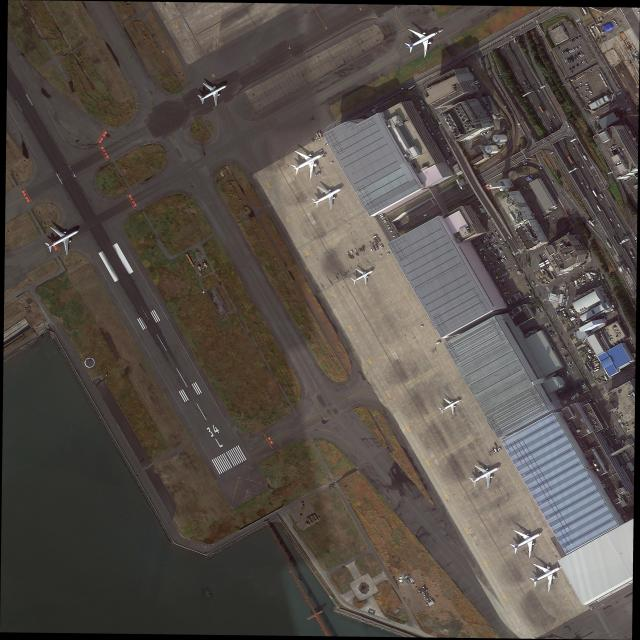large-vehicle: (612, 237, 620, 246), (588, 219, 596, 227), (523, 81, 530, 90), (538, 104, 545, 113), (567, 154, 574, 163), (629, 250, 636, 259), (605, 240, 612, 248), (592, 190, 599, 198), (597, 194, 603, 201), (596, 204, 602, 211), (565, 120, 570, 128), (550, 126, 555, 133), (513, 36, 517, 44), (583, 155, 588, 161), (627, 267, 632, 273), (599, 193, 604, 199), (427, 127, 432, 132), (608, 208, 613, 213), (559, 307, 565, 311), (493, 443, 497, 448), (492, 449, 496, 454), (350, 255, 354, 260), (562, 401, 566, 406), (494, 448, 498, 453), (509, 299, 513, 304), (507, 300, 511, 305), (355, 253, 359, 257), (563, 400, 567, 404), (621, 439, 625, 443), (576, 393, 580, 397), (574, 394, 578, 398), (376, 241, 381, 244), (375, 239, 380, 242), (373, 237, 378, 240), (347, 252, 350, 257), (349, 256, 352, 260), (619, 416, 623, 419), (572, 396, 575, 400), (618, 413, 621, 416)
plane: (392, 14, 451, 66), (35, 214, 90, 267), (282, 138, 333, 188), (521, 551, 570, 601), (499, 517, 550, 565), (303, 176, 349, 218), (462, 453, 506, 496), (193, 74, 234, 112), (432, 390, 465, 422), (345, 262, 379, 292)
small-vehicle: (438, 29, 444, 33), (422, 590, 427, 594), (626, 465, 630, 470), (436, 341, 441, 345), (372, 247, 376, 252), (374, 245, 378, 250), (423, 595, 429, 598), (477, 214, 481, 218), (425, 122, 429, 126), (475, 82, 480, 85), (474, 80, 479, 83), (423, 594, 428, 597), (581, 282, 586, 285), (489, 246, 492, 250), (586, 185, 589, 189), (572, 146, 575, 150), (380, 246, 384, 249), (423, 592, 427, 595), (424, 597, 428, 600), (500, 239, 504, 242), (330, 161, 334, 164), (380, 215, 384, 218), (380, 213, 384, 216), (382, 217, 386, 220), (392, 235, 396, 238), (373, 235, 377, 238), (503, 254, 506, 258), (501, 259, 504, 263), (440, 137, 444, 140), (447, 150, 451, 153), (423, 214, 427, 217), (604, 435, 608, 438), (611, 433, 615, 436), (319, 150, 323, 153), (420, 325, 424, 328), (558, 390, 562, 393), (631, 422, 635, 425), (625, 425, 629, 428), (550, 333, 553, 337), (572, 58, 575, 62), (565, 58, 568, 62), (569, 56, 572, 60), (576, 56, 579, 60), (579, 54, 582, 58), (570, 49, 573, 53), (578, 45, 581, 49), (617, 224, 621, 227), (605, 329, 609, 332), (585, 62, 588, 66), (487, 238, 490, 241), (483, 237, 486, 240), (494, 228, 497, 231), (486, 238, 489, 241), (499, 237, 502, 240), (495, 243, 498, 246), (488, 247, 491, 250), (482, 247, 485, 250), (490, 242, 493, 245), (491, 242, 494, 245), (492, 235, 495, 238), (542, 253, 545, 256), (538, 89, 541, 92), (469, 95, 472, 98), (471, 68, 474, 71), (613, 20, 616, 23), (615, 23, 618, 26), (490, 154, 493, 157), (490, 128, 493, 131), (496, 243, 499, 246), (500, 238, 503, 241), (370, 248, 373, 251), (419, 592, 422, 595), (499, 447, 502, 450), (386, 224, 389, 227), (390, 230, 393, 233), (567, 363, 570, 366), (504, 257, 507, 260), (501, 256, 504, 259), (483, 256, 486, 259), (492, 251, 495, 254), (493, 251, 496, 254), (494, 253, 497, 256), (490, 256, 493, 259), (498, 251, 501, 254), (499, 250, 502, 253), (498, 248, 501, 251), (499, 247, 502, 250), (504, 246, 507, 249), (502, 259, 505, 262), (495, 259, 498, 262), (549, 324, 552, 327), (570, 361, 573, 364), (571, 361, 574, 364), (563, 355, 566, 358), (564, 355, 567, 358), (551, 332, 554, 335), (583, 339, 586, 342), (497, 261, 500, 264), (454, 160, 457, 163), (447, 147, 450, 150), (423, 119, 426, 122), (465, 97, 468, 100), (418, 111, 421, 114), (627, 429, 630, 432), (401, 87, 404, 90), (550, 330, 553, 333), (549, 331, 552, 334), (553, 332, 556, 335), (555, 310, 558, 313), (479, 248, 482, 251), (482, 133, 485, 136), (481, 241, 484, 244), (491, 255, 494, 258), (497, 258, 500, 261), (576, 63, 579, 66), (573, 58, 576, 61), (570, 60, 573, 63), (569, 60, 572, 63), (564, 59, 567, 62), (568, 57, 571, 60), (578, 52, 581, 55), (584, 59, 587, 62), (581, 61, 584, 64), (581, 54, 584, 57), (569, 41, 572, 44), (565, 49, 568, 52), (567, 52, 570, 55), (569, 50, 572, 53), (582, 53, 585, 56), (571, 49, 574, 52), (574, 48, 577, 51), (575, 47, 578, 50), (579, 45, 582, 48), (580, 61, 583, 64), (575, 64, 578, 67), (610, 218, 613, 221), (598, 278, 601, 281), (600, 285, 603, 288), (614, 326, 617, 329), (616, 330, 619, 333), (617, 332, 620, 335), (586, 85, 589, 88), (585, 83, 588, 86), (587, 87, 590, 90), (584, 96, 587, 99), (589, 90, 592, 93), (590, 93, 593, 96), (491, 225, 495, 227), (524, 163, 528, 165), (503, 129, 507, 131), (502, 128, 506, 130), (484, 132, 486, 136), (379, 245, 383, 247), (573, 48, 575, 52), (485, 239, 487, 242), (484, 240, 486, 243), (478, 240, 480, 243), (486, 235, 488, 238), (489, 234, 491, 237), (496, 232, 499, 234), (495, 231, 498, 233), (494, 230, 497, 232), (493, 227, 496, 229), (552, 217, 555, 219), (489, 237, 491, 240), (494, 244, 496, 247), (493, 245, 495, 248), (492, 245, 494, 248), (485, 249, 487, 252), (481, 248, 483, 251), (483, 247, 486, 249), (487, 245, 489, 248), (488, 244, 490, 247), (493, 241, 495, 244), (494, 241, 496, 244), (486, 214, 489, 216), (476, 91, 479, 93), (510, 36, 513, 38), (540, 37, 542, 40), (580, 23, 582, 26), (612, 19, 615, 21), (614, 22, 617, 24), (576, 37, 578, 40), (553, 115, 555, 118), (552, 181, 554, 184), (582, 166, 584, 169), (539, 167, 542, 169), (513, 161, 516, 163), (578, 144, 580, 147), (488, 130, 490, 133), (574, 395, 576, 398), (387, 253, 390, 255), (380, 255, 383, 257), (427, 600, 430, 602), (498, 448, 500, 451), (383, 220, 386, 222), (384, 221, 387, 223), (388, 227, 391, 229), (567, 371, 569, 374), (569, 365, 571, 368), (569, 362, 571, 365), (502, 255, 504, 258), (501, 250, 503, 253), (496, 249, 498, 252), (497, 252, 499, 255), (502, 242, 505, 244), (504, 258, 506, 261), (565, 358, 567, 361), (566, 354, 568, 357), (555, 331, 557, 334), (547, 326, 549, 329), (494, 263, 496, 266), (557, 309, 560, 311), (585, 338, 587, 341), (563, 277, 566, 279), (579, 267, 582, 269), (575, 37, 577, 40), (574, 38, 576, 41), (446, 146, 449, 148), (445, 144, 448, 146), (444, 142, 447, 144), (437, 132, 440, 134), (432, 133, 434, 136), (433, 126, 436, 128), (428, 116, 431, 118), (421, 102, 424, 104), (420, 101, 423, 103), (446, 160, 449, 162), (620, 339, 622, 342), (606, 428, 609, 430), (602, 431, 605, 433), (623, 468, 626, 470), (621, 465, 624, 467), (473, 93, 476, 95), (477, 85, 480, 87), (485, 131, 487, 134), (563, 373, 565, 376), (530, 305, 532, 308), (604, 434, 607, 436), (488, 113, 490, 116), (481, 133, 483, 136), (480, 238, 482, 241), (476, 244, 478, 247), (479, 252, 482, 254), (499, 257, 501, 260), (486, 245, 488, 248), (539, 255, 541, 258), (514, 264, 517, 266), (616, 341, 618, 344), (613, 343, 615, 346), (567, 61, 569, 64), (558, 47, 560, 50), (567, 58, 569, 61), (571, 56, 573, 59), (575, 54, 577, 57), (577, 52, 579, 55), (580, 51, 582, 54), (583, 60, 585, 63), (568, 51, 570, 54), (561, 52, 563, 55), (562, 51, 564, 54), (564, 50, 566, 53), (567, 48, 569, 51), (577, 46, 579, 49), (609, 336, 612, 338), (574, 65, 576, 68), (608, 298, 610, 301), (600, 331, 602, 334), (618, 334, 621, 336), (573, 66, 575, 69), (572, 66, 574, 69), (579, 82, 582, 84), (576, 88, 579, 90), (582, 85, 585, 87), (580, 95, 583, 97), (590, 92, 593, 94), (483, 241, 485, 243), (477, 241, 479, 243), (475, 242, 477, 244), (474, 242, 476, 244), (491, 233, 493, 235), (490, 237, 492, 239), (495, 240, 497, 242), (491, 236, 493, 238), (570, 227, 572, 229), (540, 259, 542, 261), (598, 18, 600, 20), (616, 25, 618, 27), (579, 36, 581, 38), (355, 249, 357, 251), (426, 604, 428, 606), (572, 371, 574, 373), (503, 244, 505, 246), (448, 149, 450, 151), (422, 103, 424, 105), (420, 100, 422, 102), (603, 432, 605, 434), (562, 374, 564, 376), (615, 438, 617, 440), (486, 131, 488, 133), (500, 257, 502, 259), (517, 268, 519, 270), (611, 338, 613, 340), (563, 51, 565, 53), (602, 288, 604, 290), (605, 293, 607, 295), (580, 86, 582, 88), (580, 94, 582, 96), (586, 98, 588, 100), (573, 39, 574, 41), (572, 40, 573, 42)
storage-tank: (492, 135, 508, 145), (484, 145, 501, 154)
